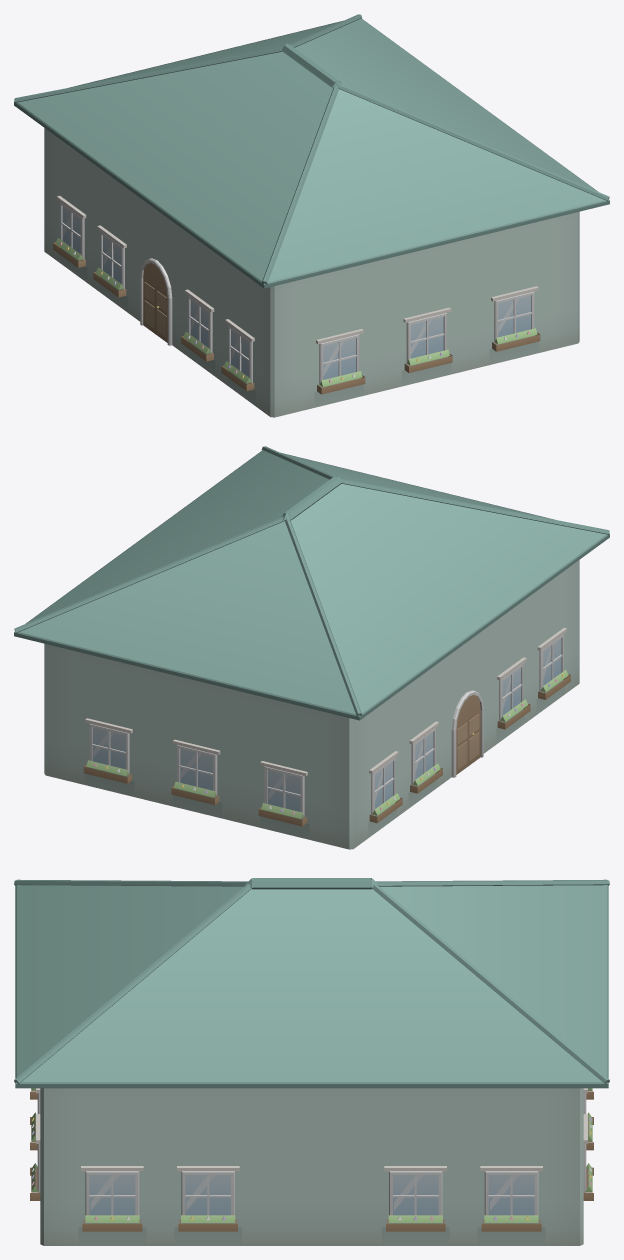
The model's file is prasekolah_shell.glb.
3 renders of one model, top to bottom at view 1: azimuth 30°, elevation 25°; view 2: azimuth 150°, elevation 25°; view 3: azimuth 270°, elevation 25°, orthographic. The views are drawn at different scales.
Parts seen in each view (by area): view 1: prasekolah_roof, prasekolah_body; view 2: prasekolah_roof, prasekolah_body; view 3: prasekolah_roof, prasekolah_body.
Part boxes in pixels (bbox=[...]): prasekolah_roof: bbox=[14, 14, 609, 288]; prasekolah_body: bbox=[44, 128, 579, 417]; prasekolah_roof: bbox=[14, 446, 609, 720]; prasekolah_body: bbox=[44, 560, 579, 849]; prasekolah_roof: bbox=[14, 878, 609, 1088]; prasekolah_body: bbox=[30, 1088, 593, 1245].
Size of the model in its own units: 11.93 by 7.7 by 14.93.
